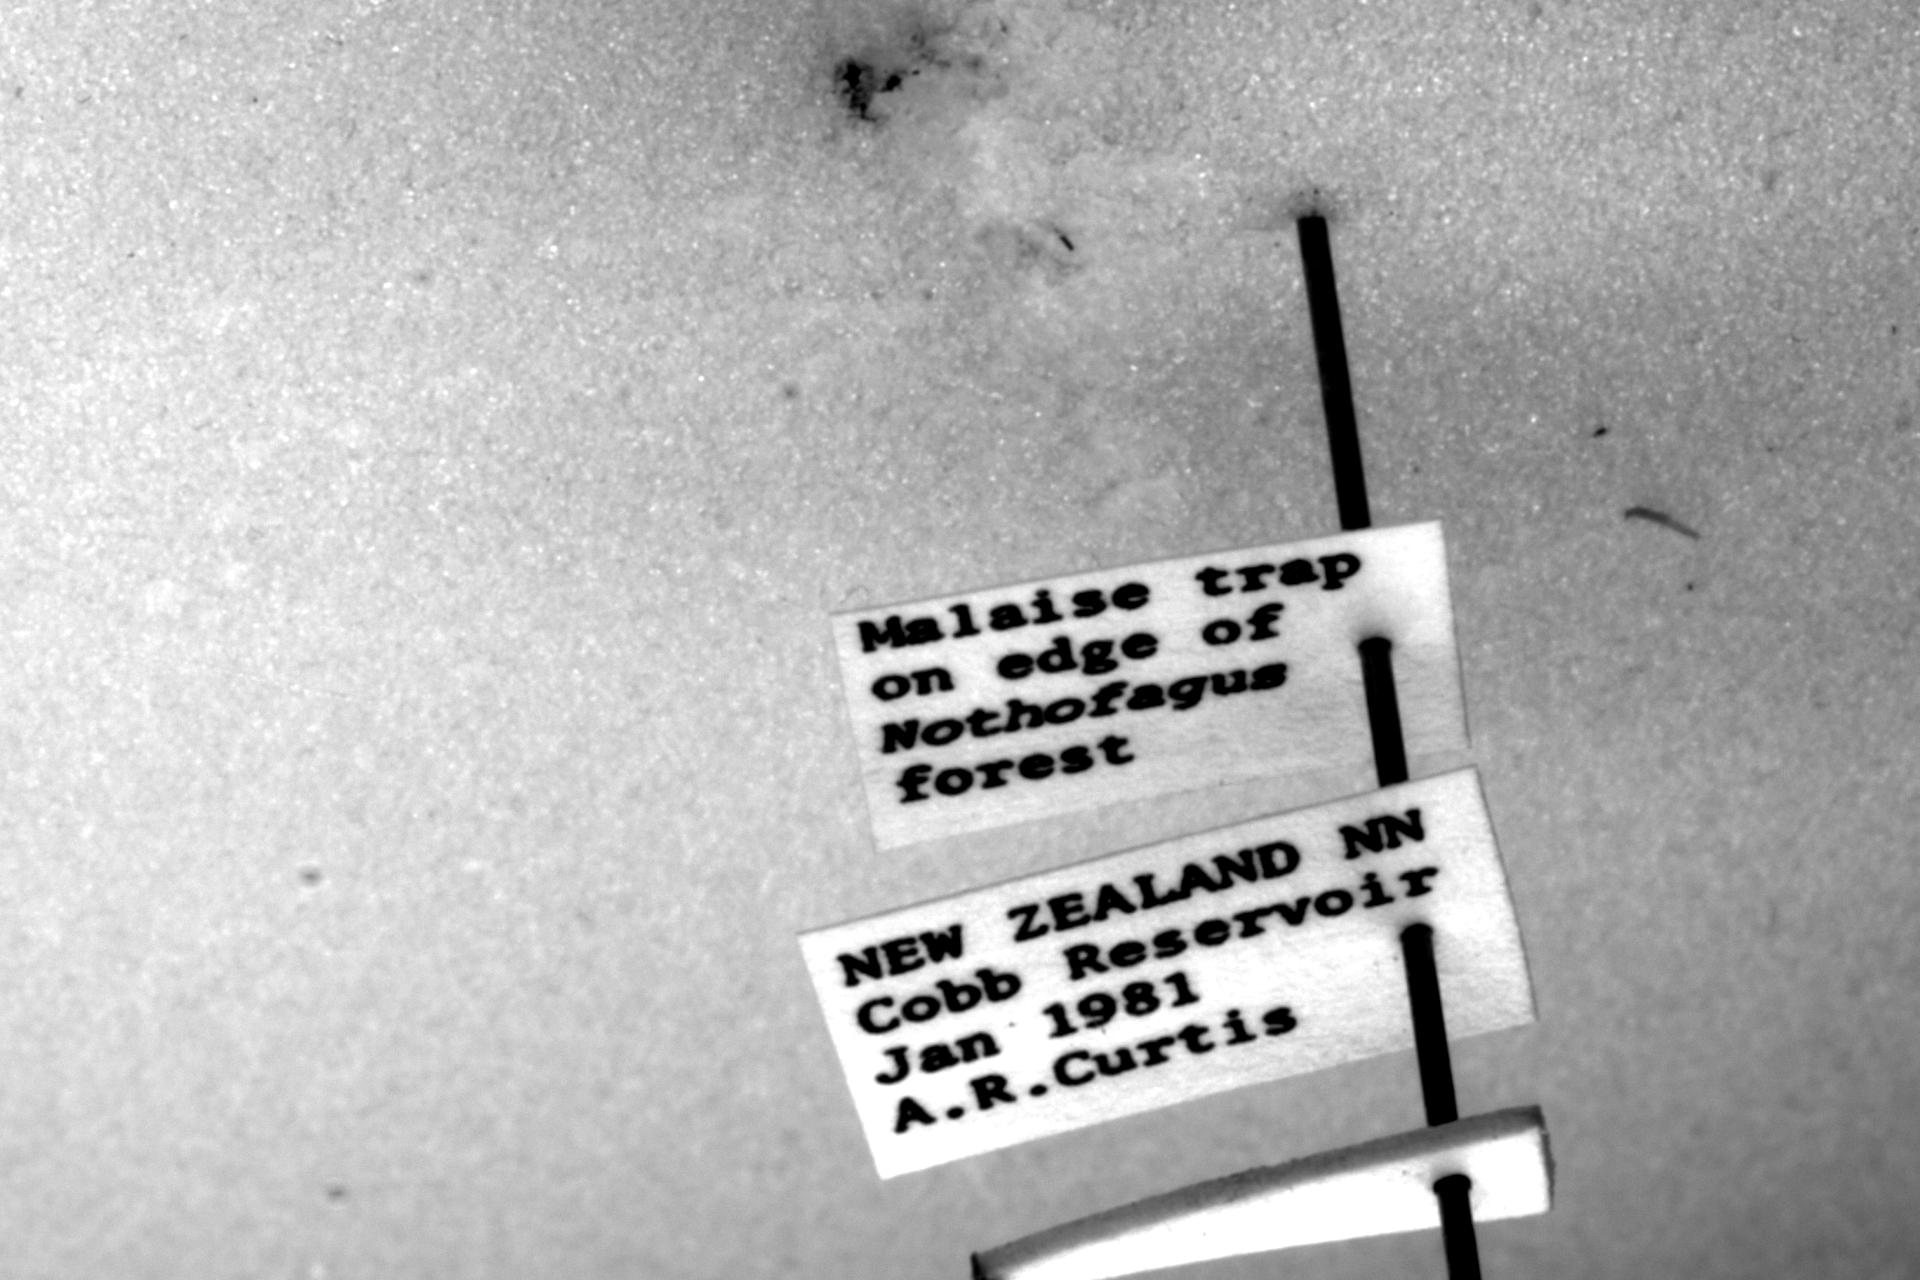typed_label: (799, 769, 1534, 1178), (832, 521, 1466, 848)
